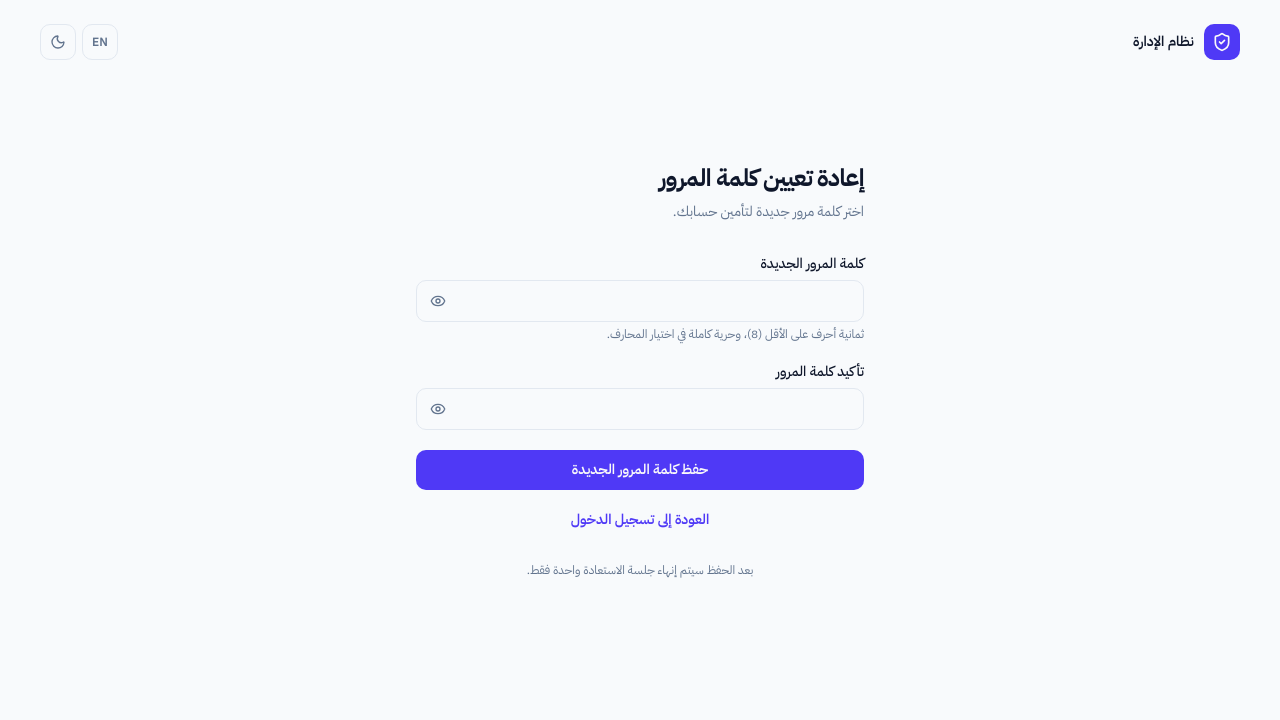
Test: ResetPasswordPage › enforces the 8 character policy before writing anything
Step 1. Type "short12" into the password field labelled "كلمة المرور الجديدة" → (640, 301), box top-left (416, 280), bottom-right (864, 322)
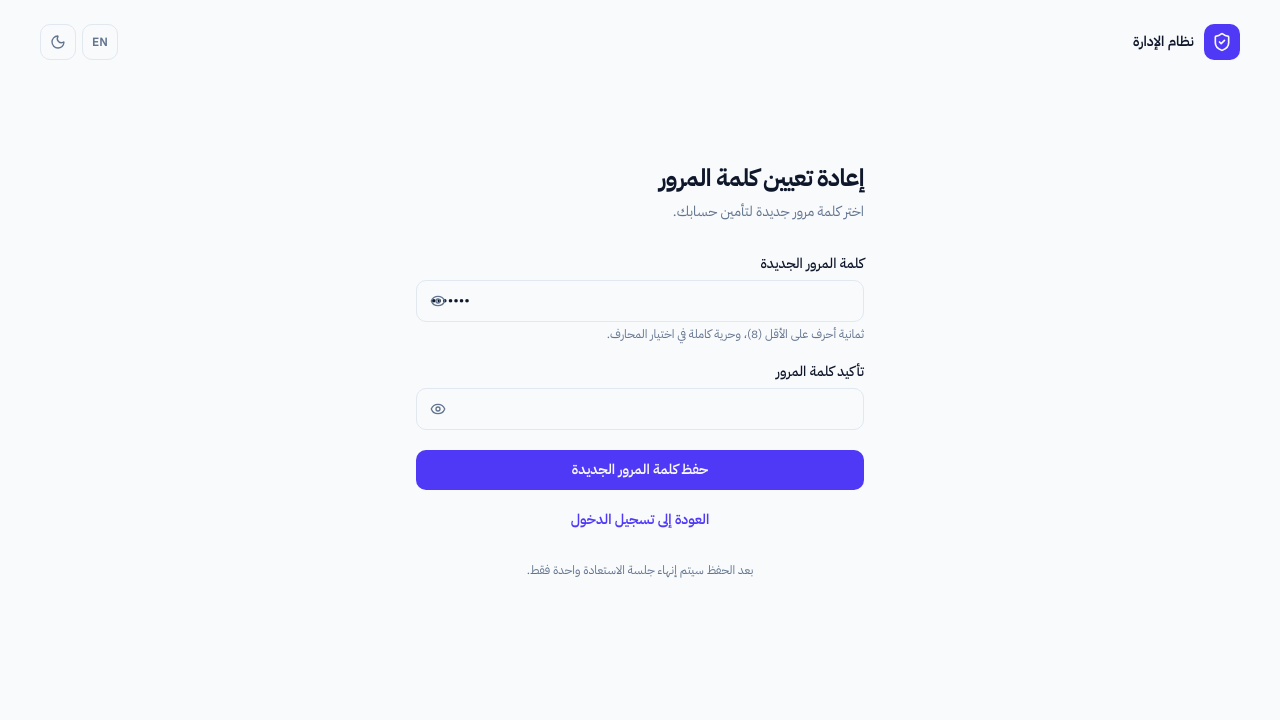
Step 2. Type "short12" into the password field labelled "تأكيد كلمة المرور" → (640, 409), box top-left (416, 388), bottom-right (864, 430)
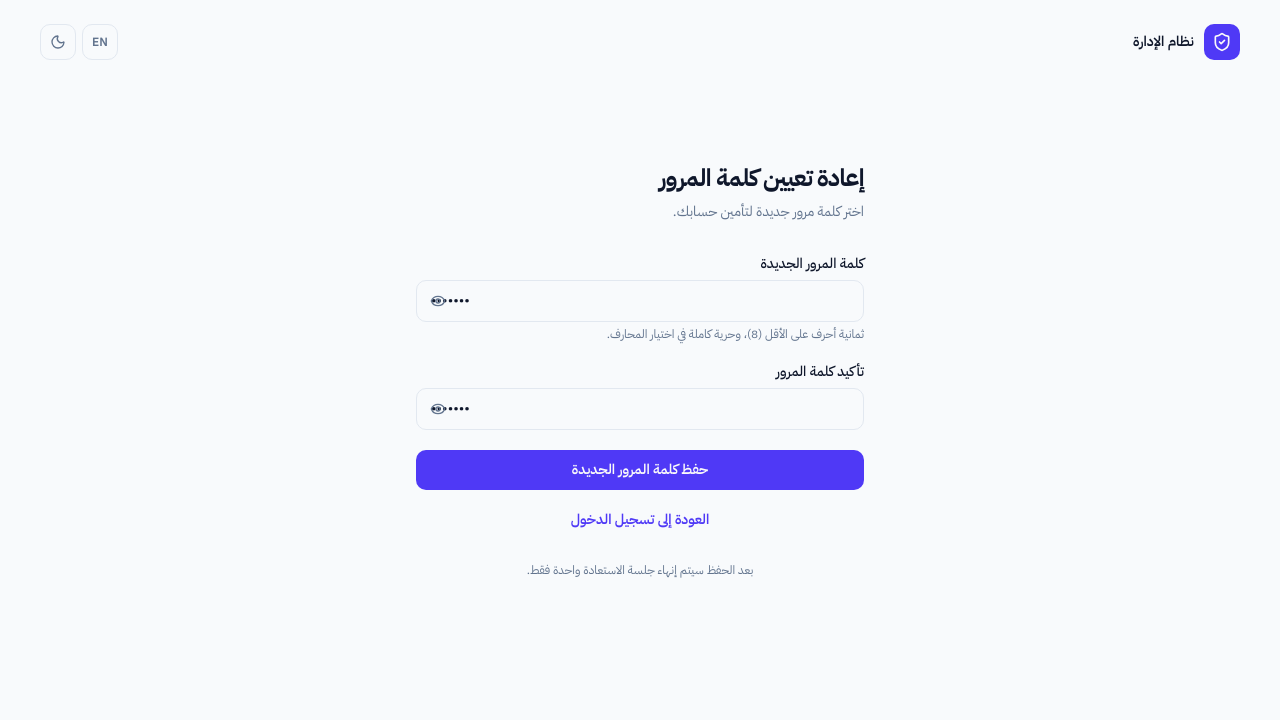
Step 3. Click the button "حفظ كلمة المرور الجديدة" → (640, 470), box top-left (416, 450), bottom-right (864, 490)
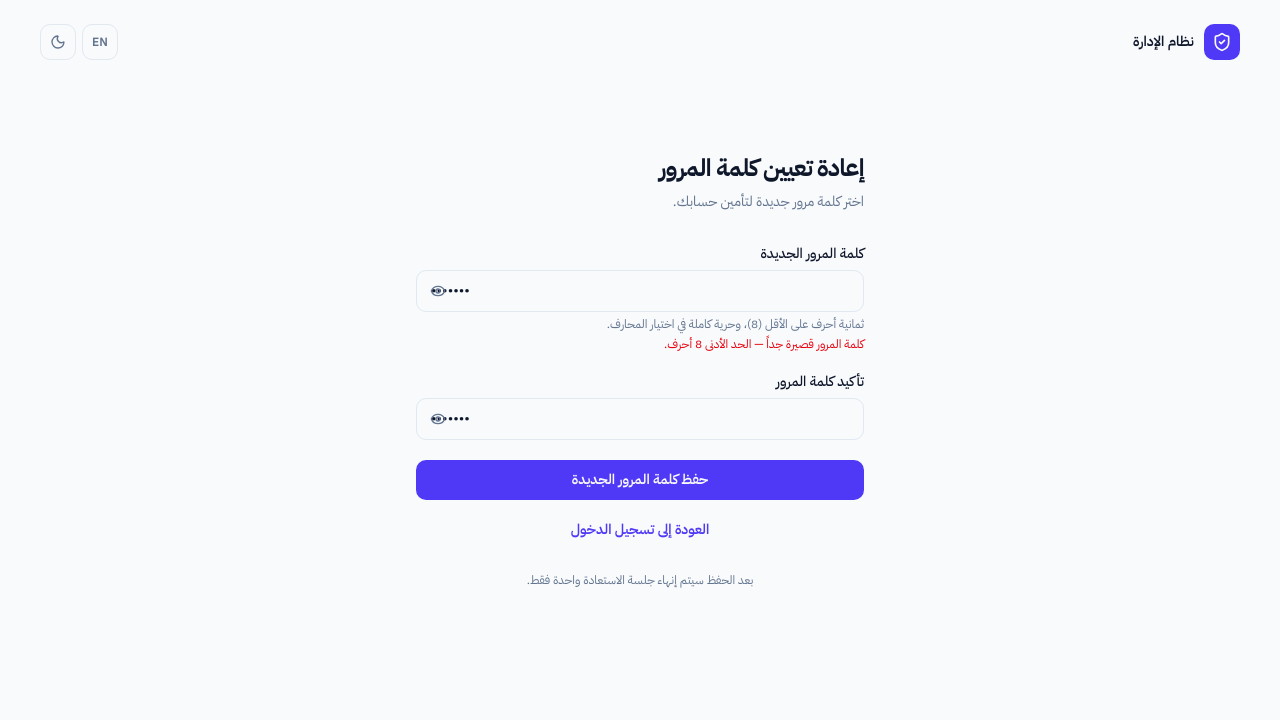
Expected: the text "كلمة المرور قصيرة جداً — الحد الأدنى 8 أحرف." is shown, top-left (664, 335), bottom-right (864, 353)
